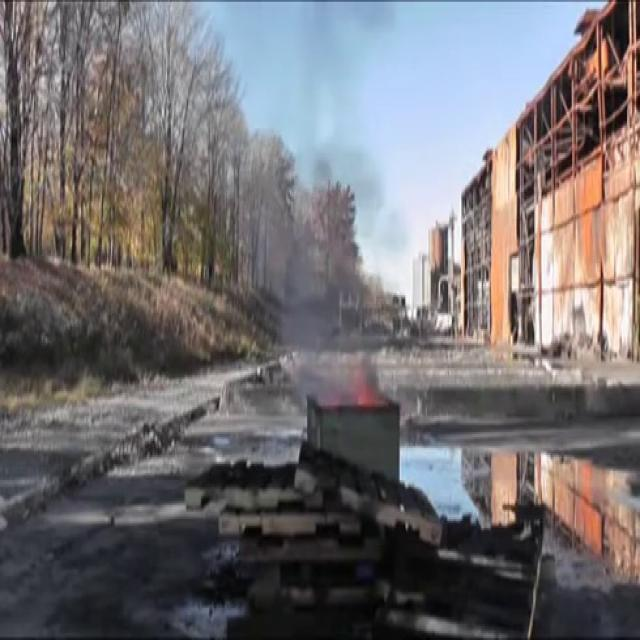Smoke: (247, 166, 391, 410)
